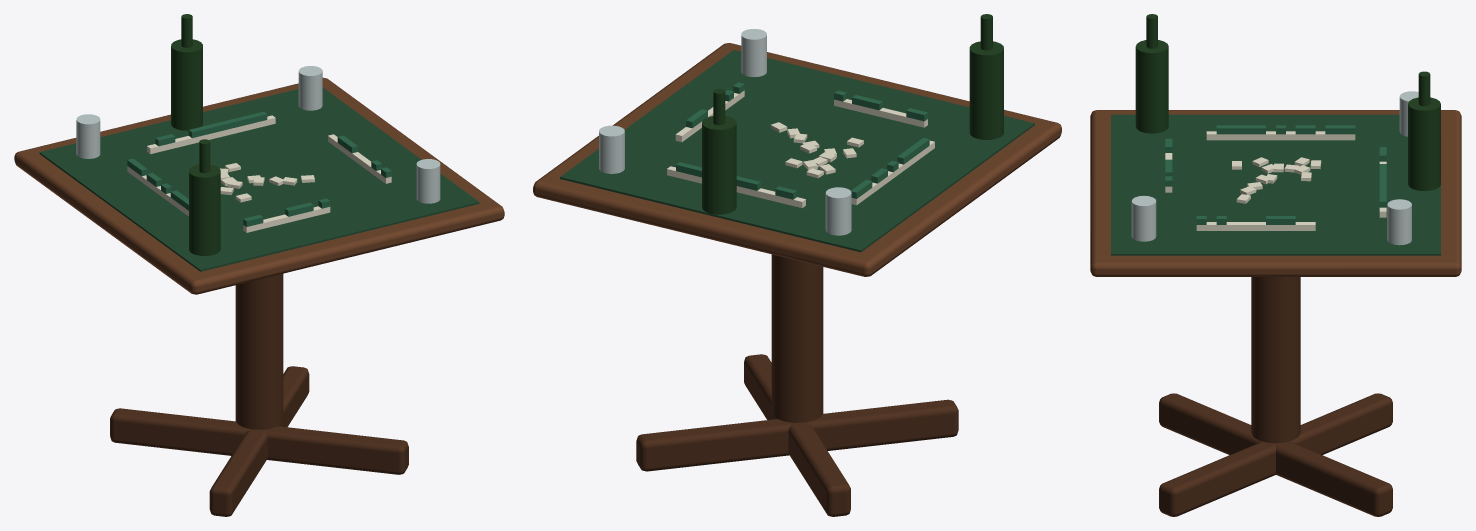
File: mahjong_table.glb
3 renders of one model, left to right at view 1: azimuth 30°, elevation 25°; view 2: azimuth 150°, elevation 25°; view 3: azimuth 270°, elevation 25°, orthographic. The views are drawn at different scales.
Visible parts, largest first — view 1: filz, platte, saeule, fuss3, fuss1, fuss2, flasche0, flasche1, fuss0, glas1, glas2, glas0; view 2: filz, platte, saeule, fuss0, fuss2, fuss1, flasche1, flasche0, fuss3, glas1, glas0, glas2; view 3: filz, platte, saeule, fuss0, fuss3, fuss1, fuss2, flasche0, flasche1, glas2, glas0, glas1 (+1 smaller).
Part boxes in pixels (x1,y1,x2,y2): filz: [39, 87, 479, 271]; platte: [14, 77, 504, 294]; saeule: [235, 273, 283, 429]; fuss3: [263, 426, 408, 474]; fuss1: [110, 408, 250, 455]; fuss2: [209, 429, 267, 516]; flasche0: [189, 164, 220, 255]; flasche1: [171, 39, 202, 130]; fuss0: [278, 366, 309, 427]; glas1: [76, 114, 100, 158]; glas2: [416, 159, 440, 203]; glas0: [298, 66, 322, 110]; filz: [560, 50, 1034, 252]; platte: [533, 43, 1061, 276]; saeule: [771, 254, 823, 422]; fuss0: [636, 419, 792, 471]; fuss2: [806, 399, 958, 450]; fuss1: [788, 422, 850, 516]; flasche1: [702, 116, 736, 214]; flasche0: [969, 41, 1003, 139]; fuss3: [744, 354, 776, 419]; glas1: [825, 187, 851, 235]; glas0: [599, 125, 624, 173]; glas2: [741, 29, 766, 76]; filz: [1111, 114, 1440, 255]; platte: [1090, 110, 1461, 276]; saeule: [1251, 277, 1300, 443]; fuss0: [1276, 441, 1392, 516]; fuss3: [1159, 441, 1275, 516]; fuss1: [1289, 393, 1392, 454]; fuss2: [1159, 393, 1262, 454]; flasche0: [1135, 40, 1168, 133]; flasche1: [1408, 97, 1440, 191]; glas2: [1131, 195, 1156, 241]; glas0: [1387, 199, 1411, 245]; glas1: [1399, 91, 1418, 136].
Size of the model in its own units: 0.9 by 1.06 by 0.9.
